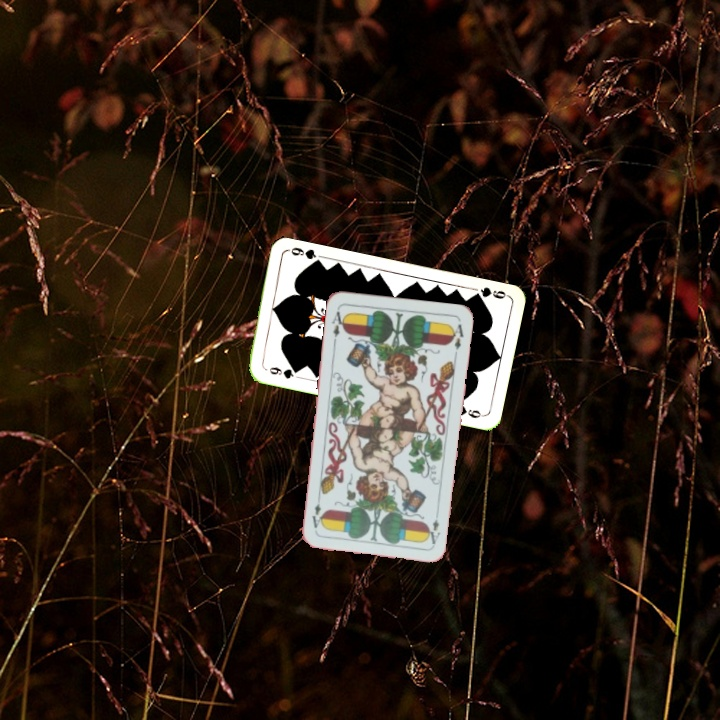EA: (328, 307, 348, 346), (424, 506, 443, 547)
G9: (468, 283, 510, 301), (265, 363, 302, 381)
